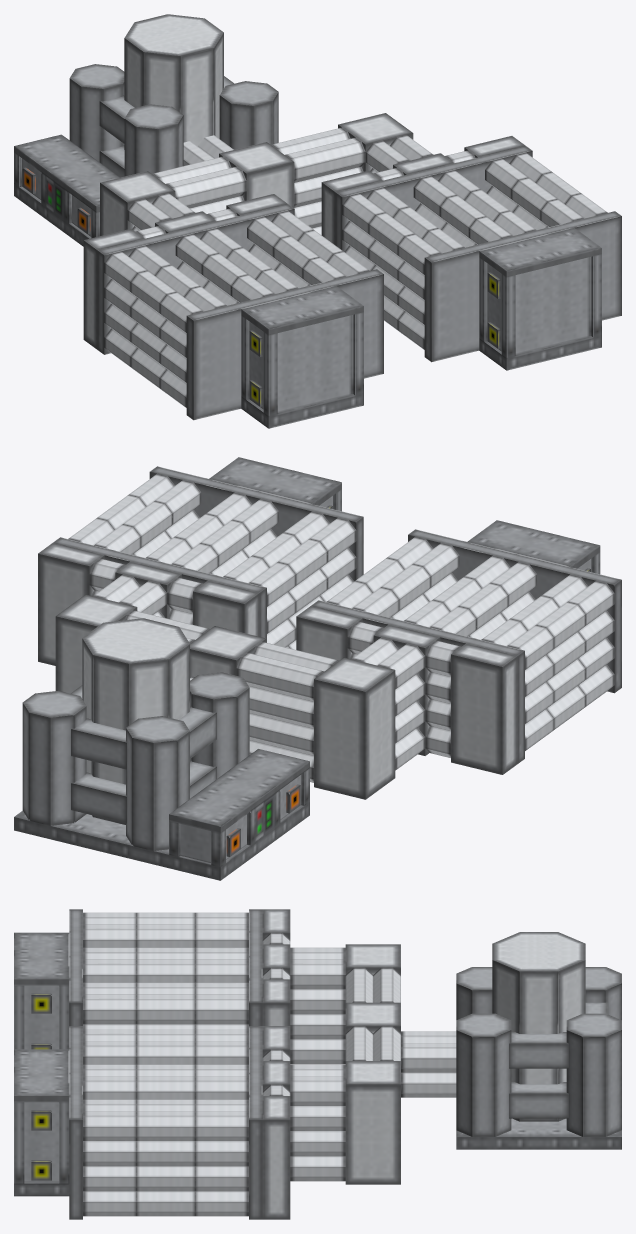
File: orbitallaserdrill.obj
3 renders of one model, top to bottom at view 1: azimuth 30°, elevation 25°; view 2: azimuth 150°, elevation 25°; view 3: azimuth 270°, elevation 25°, orthographic. The views are drawn at different scales.
Parts seen in each view (by area): view 1: Hull; view 2: Hull; view 3: Hull.
Boxes of the visible parts, left/top/right/bottom form: Hull: left=14, top=14, right=621, bottom=428; Hull: left=14, top=457, right=621, bottom=880; Hull: left=14, top=909, right=621, bottom=1219.
Size of the model in its own units: 9 by 3.25 by 11.
